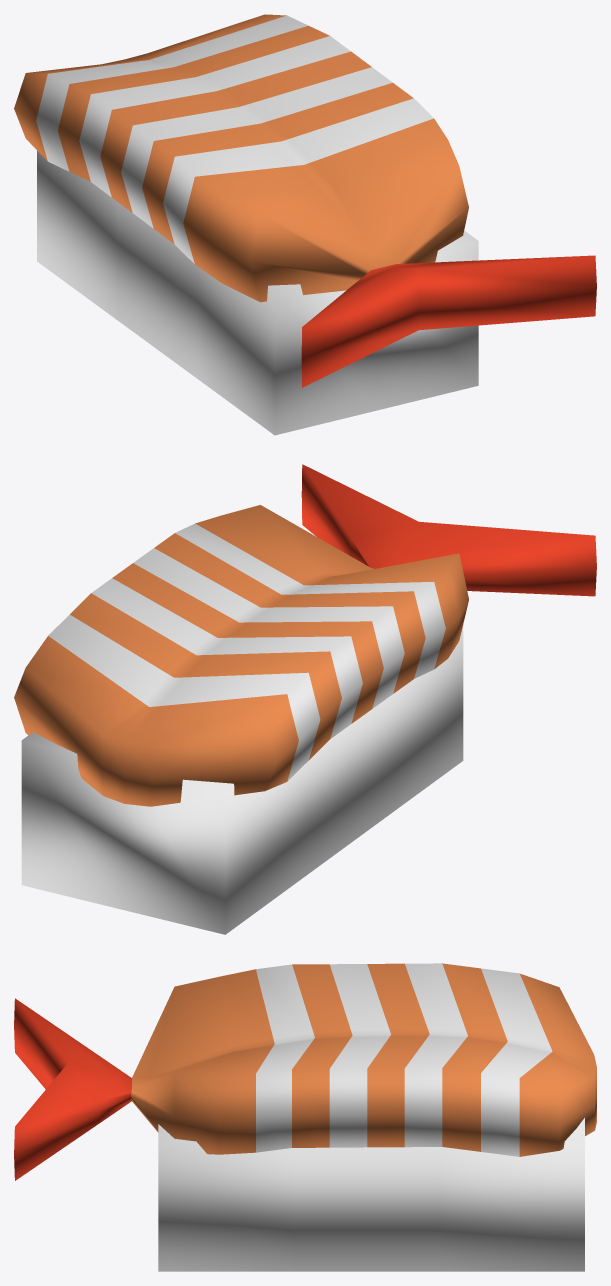
Rendered from Ebi-Sushi.glb.
3 renders of one model, top to bottom at view 1: azimuth 30°, elevation 25°; view 2: azimuth 150°, elevation 25°; view 3: azimuth 270°, elevation 25°, orthographic. The views are drawn at different scales.
Visible parts, largest first — view 1: Cube.055, Cube.056; view 2: Cube.055, Cube.056; view 3: Cube.055, Cube.056.
Boxes of the visible parts, <box> form: Cube.055: <box>14,14,596,387</box>; Cube.056: <box>37,150,478,435</box>; Cube.055: <box>14,464,596,806</box>; Cube.056: <box>21,625,463,934</box>; Cube.055: <box>14,963,596,1180</box>; Cube.056: <box>158,1118,584,1271</box>.
Size of the model in its own units: 0.522 by 0.3912 by 0.9947.
